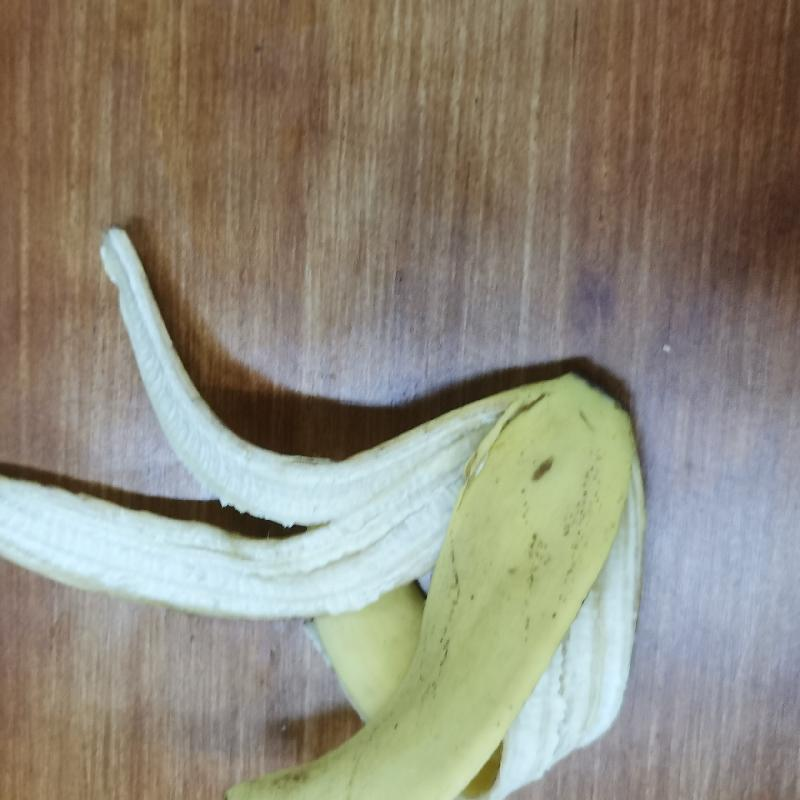bananas: (3, 211, 652, 799)
